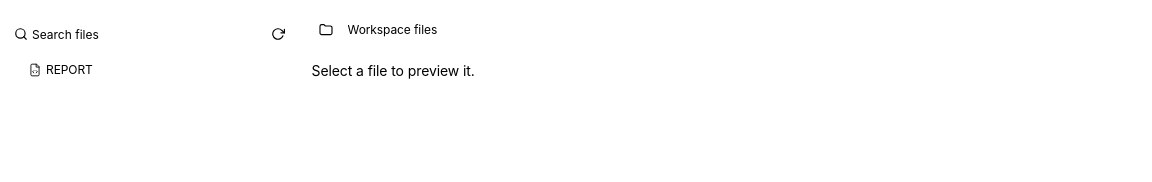
it: workspace source preview limits › preserves MIME-only Markdown preview without duplicating resource actions
Click the text with class "workspace-files__name": (69, 69) x1=46 y1=62 x2=93 y2=77
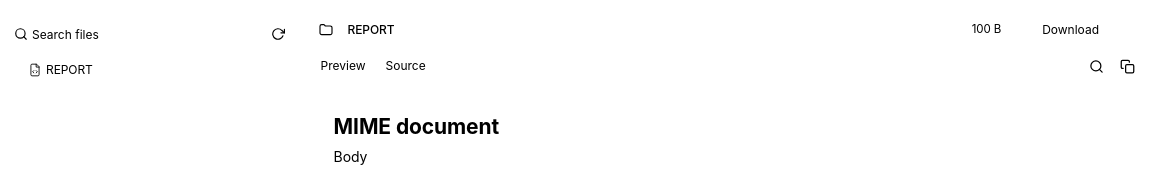
Check: the element with class "workspace-file__markdown" shows "MIME document", box x1=334 y1=114 x2=499 y2=139
Check: the number of elements with class "workspace-resource-actions" is 1, box x1=1009 y1=16 x2=1140 y2=44
